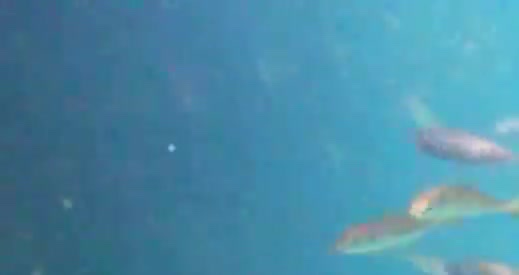azi: (405, 180, 517, 220)
